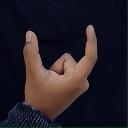hand: (22, 24, 98, 122)
